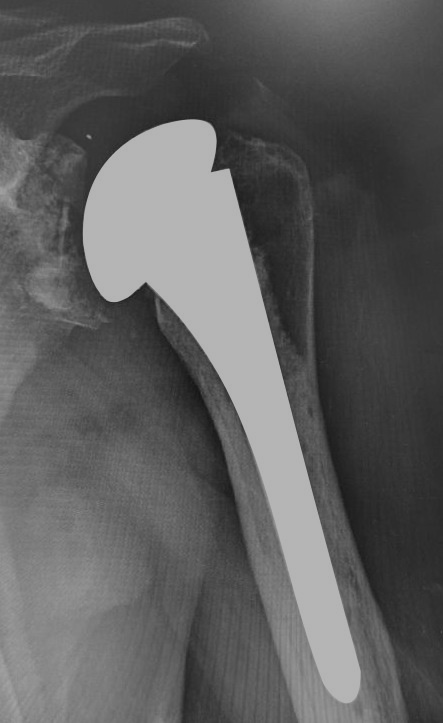Shoulder - Anotomyhead - Stryker: (70, 118, 236, 313)
Shoulder - Anotomytail - Stryker: (138, 155, 307, 437)
